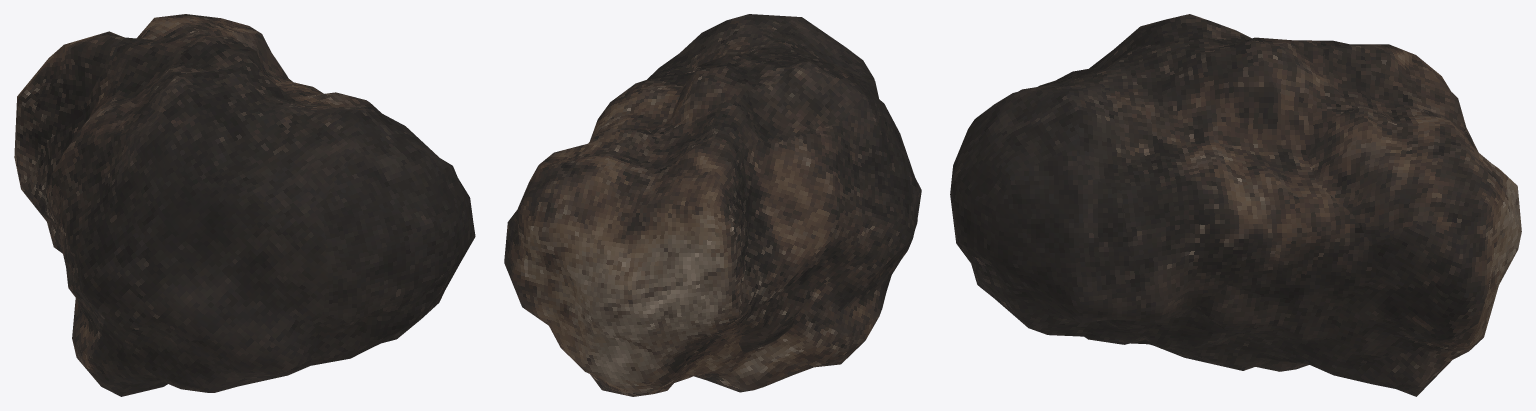
File: SM_RP2_Rock_2m_2.001.glb
3 renders of one model, left to right at view 1: azimuth 30°, elevation 25°; view 2: azimuth 150°, elevation 25°; view 3: azimuth 270°, elevation 25°, orthographic. The views are drawn at different scales.
Visible parts, largest first — view 1: SM_RP2_Rock_2m_2.001; view 2: SM_RP2_Rock_2m_2.001; view 3: SM_RP2_Rock_2m_2.001.
Boxes of the visible parts, <box> form: SM_RP2_Rock_2m_2.001: <box>14,14,475,396</box>; SM_RP2_Rock_2m_2.001: <box>504,14,921,396</box>; SM_RP2_Rock_2m_2.001: <box>950,14,1521,396</box>.
Bounding box in the file's own units: 2.66 × 2.48 × 3.73.
1 material, 1 textured.
